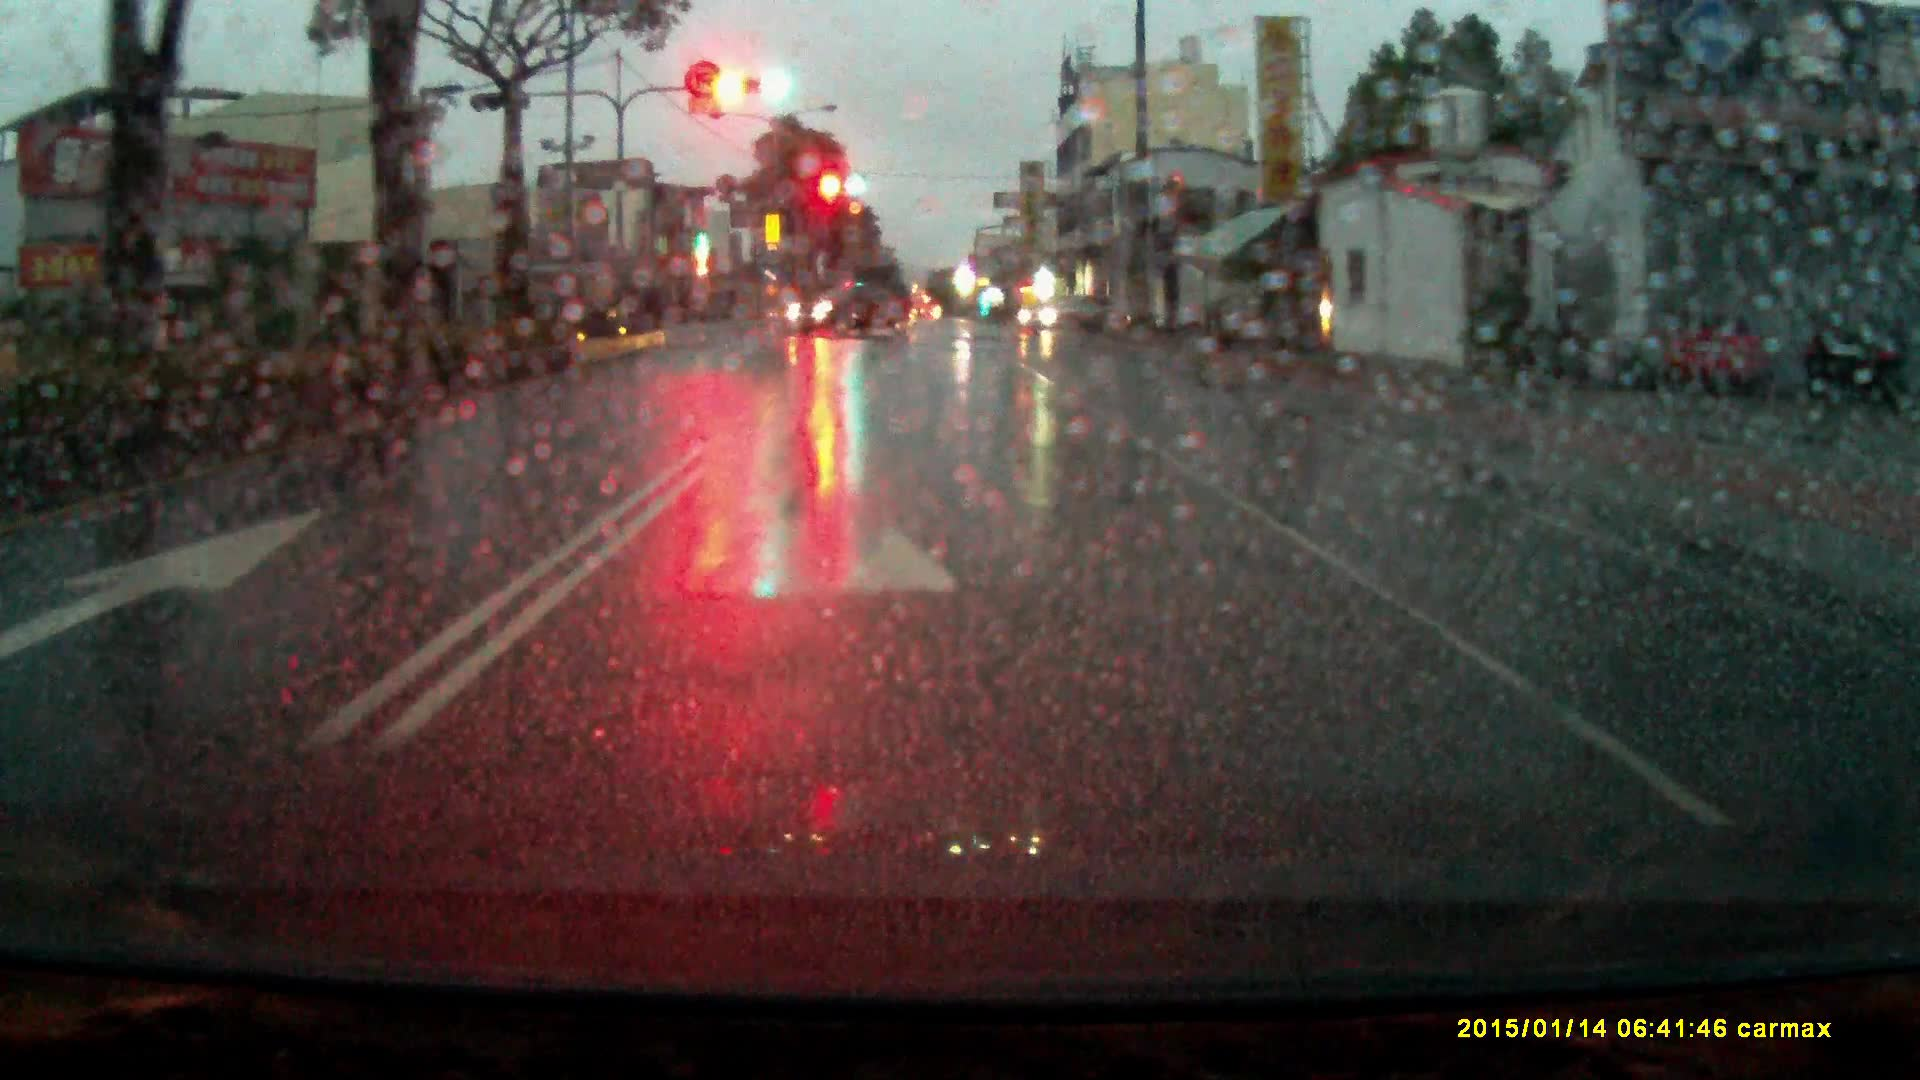vehicle: (785, 276, 920, 340), (1021, 291, 1129, 342)
